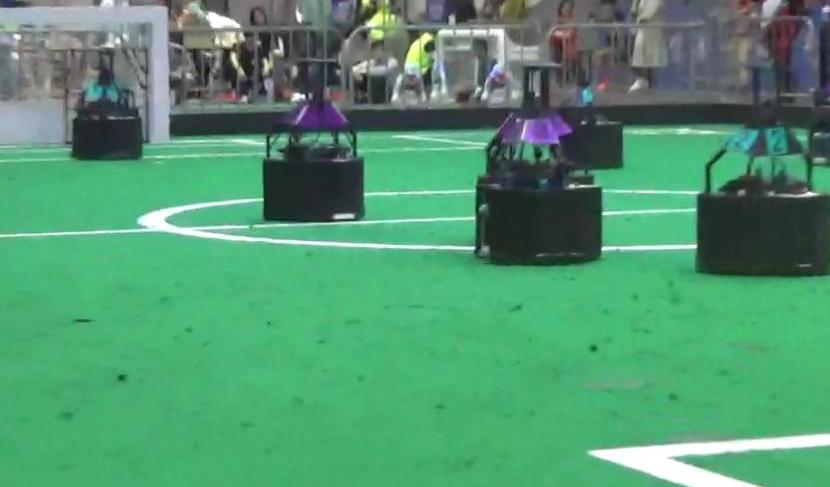robot: (688, 58, 830, 282), (467, 60, 613, 264), (257, 54, 371, 223), (63, 45, 146, 164)
